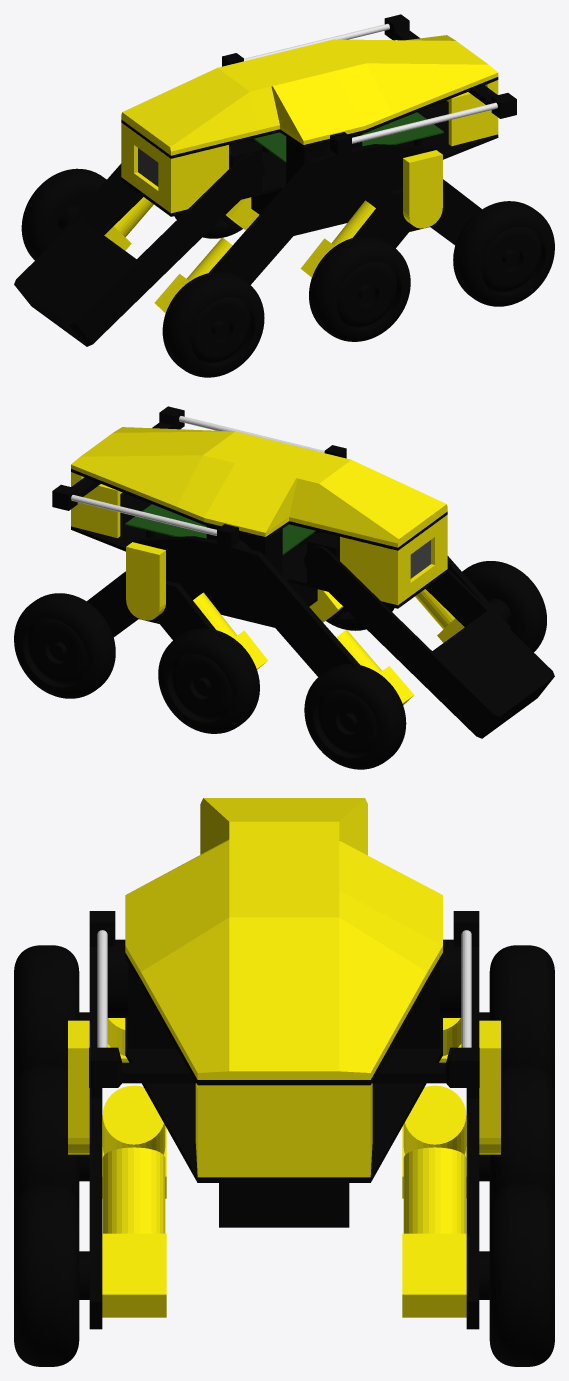
File: AgroBot.fbx
3 views of the same model, one above another, from view 1: azimuth 30°, elevation 25°; view 2: azimuth 150°, elevation 25°; view 3: azimuth 270°, elevation 25° (orthographic). The views are drawn at different scales.
Visible parts, largest first — view 1: BodyCap, Payload, FrontArm-L, Wheel, Wheel.003, Wheel.004, FrontCover, Wheel.001, RearArm-L, Trunnion-L, BottomPlate, RearCover (+15 smaller); view 2: BodyCap, Payload, FrontArm-R, Wheel.001, Wheel.002, Wheel.005, FrontCover, Wheel, RearArm-R, Trunnion-R, BottomPlate, RearCover (+15 smaller); view 3: BodyCap, RearCover, Wheel.005, Wheel.004, MotorBackRight, MotorBackLeft, BottomPlate, Wheel, Wheel.001, Wheel.003, Wheel.002, Cube (+14 smaller).
Boxes of the visible parts, bbox=[...] form: BodyCap: bbox=[121, 35, 498, 155]; Payload: bbox=[14, 154, 264, 346]; FrontArm-L: bbox=[209, 132, 437, 284]; Wheel: bbox=[162, 272, 264, 377]; Wheel.003: bbox=[309, 236, 410, 341]; Wheel.004: bbox=[453, 201, 554, 306]; FrontCover: bbox=[121, 123, 228, 213]; Wheel.001: bbox=[21, 168, 106, 260]; RearArm-L: bbox=[353, 179, 481, 248]; Trunnion-L: bbox=[403, 150, 442, 228]; BottomPlate: bbox=[121, 100, 498, 216]; RearCover: bbox=[446, 80, 498, 146]; BodyCap: bbox=[71, 427, 447, 547]; Payload: bbox=[304, 545, 554, 738]; FrontArm-R: bbox=[131, 524, 359, 676]; Wheel.001: bbox=[304, 664, 406, 769]; Wheel.002: bbox=[158, 628, 259, 733]; Wheel.005: bbox=[14, 593, 115, 698]; FrontCover: bbox=[340, 515, 447, 605]; Wheel: bbox=[462, 561, 546, 652]; RearArm-R: bbox=[87, 571, 215, 640]; Trunnion-R: bbox=[126, 542, 165, 620]; BottomPlate: bbox=[71, 492, 447, 608]; RearCover: bbox=[71, 472, 122, 538]; BodyCap: bbox=[125, 798, 442, 1079]; RearCover: bbox=[195, 1083, 372, 1177]; Wheel.005: bbox=[479, 1184, 554, 1366]; Wheel.004: bbox=[14, 1184, 89, 1366]; MotorBackRight: bbox=[402, 1147, 466, 1317]; MotorBackLeft: bbox=[102, 1147, 166, 1317]; BottomPlate: bbox=[125, 1018, 442, 1182]; Wheel: bbox=[14, 945, 89, 1089]; Wheel.001: bbox=[479, 945, 554, 1089]; Wheel.003: bbox=[14, 1065, 89, 1209]; Wheel.002: bbox=[479, 1065, 554, 1209]; Cube: bbox=[219, 1183, 349, 1227].
Bounding box in the file's own units: 32.76 × 15.73 × 20.73.
